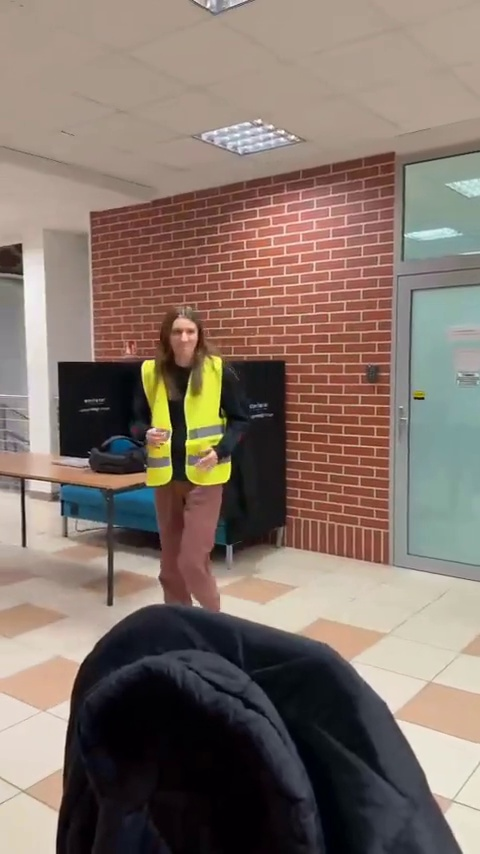vest: (132, 305, 248, 621)
